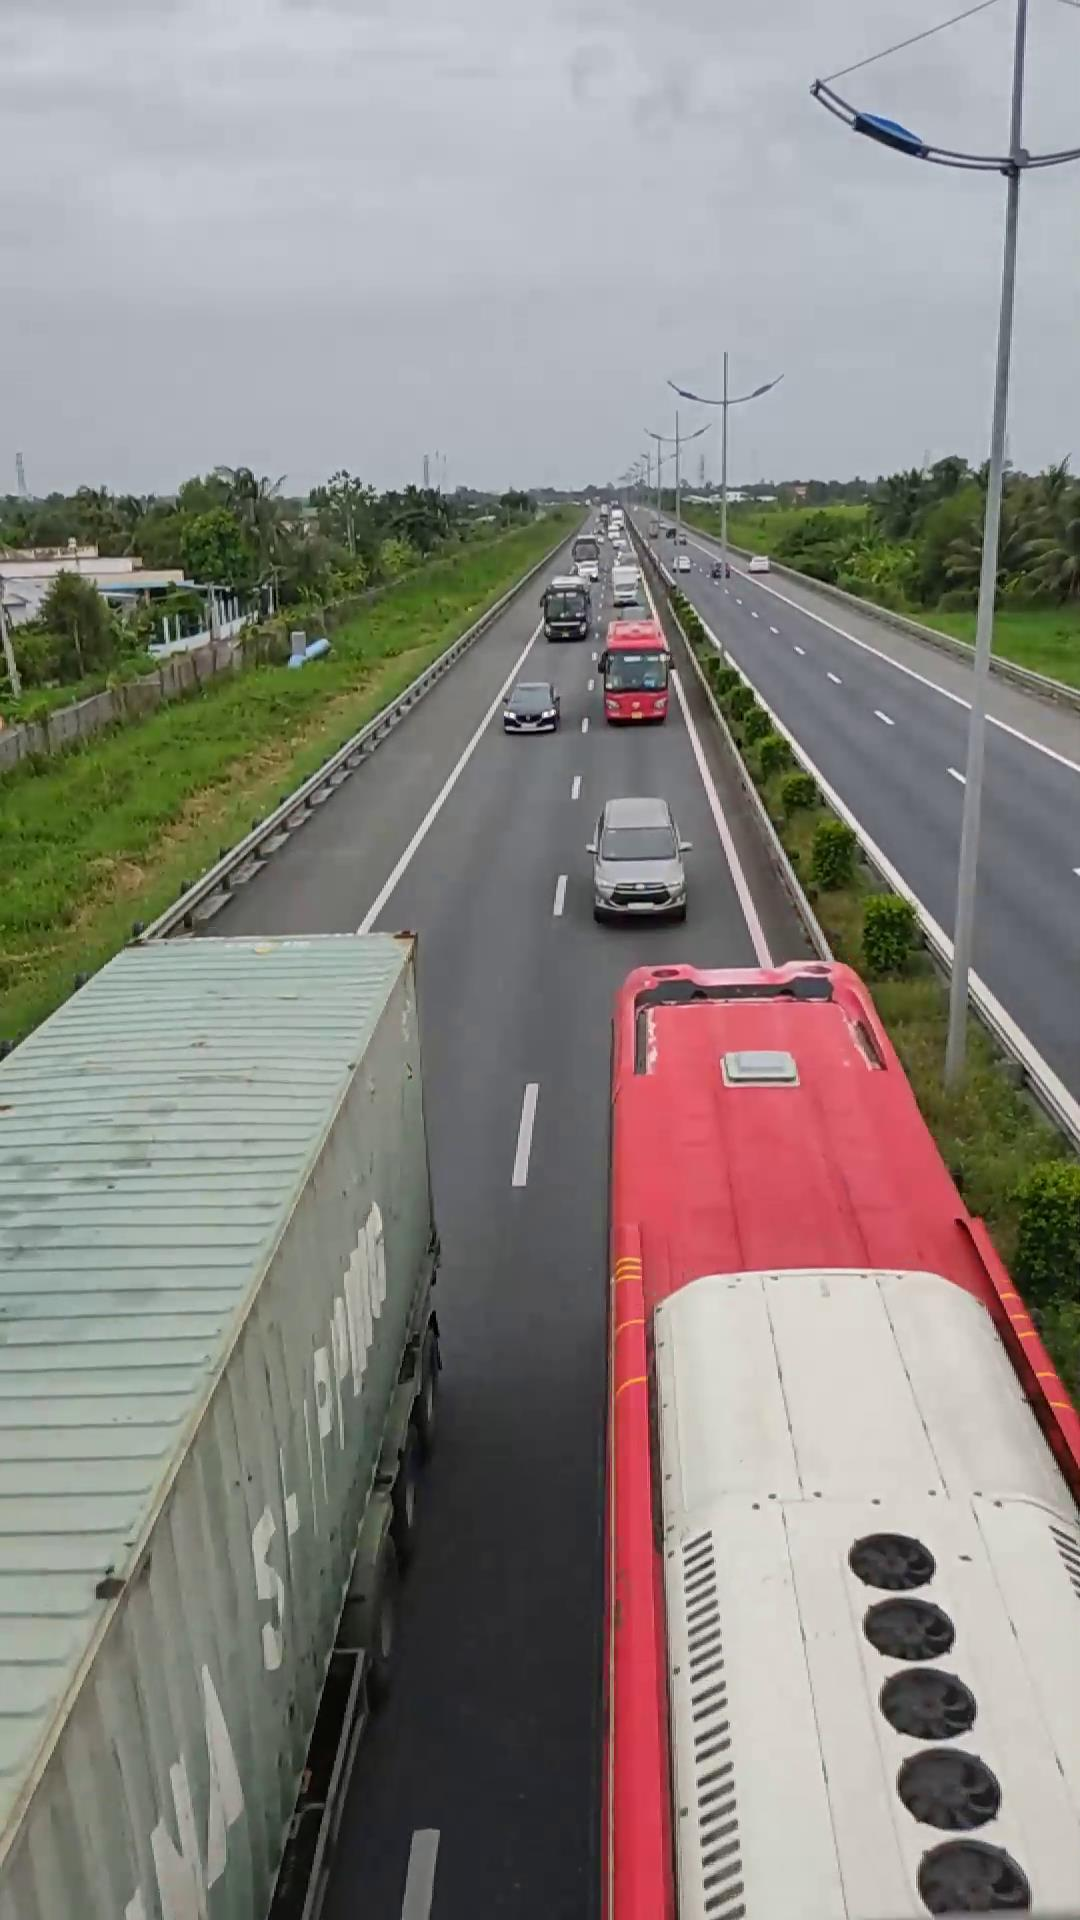bus: (603, 959, 1072, 1913)
car: (586, 796, 691, 921)
container: (0, 922, 453, 1919)
